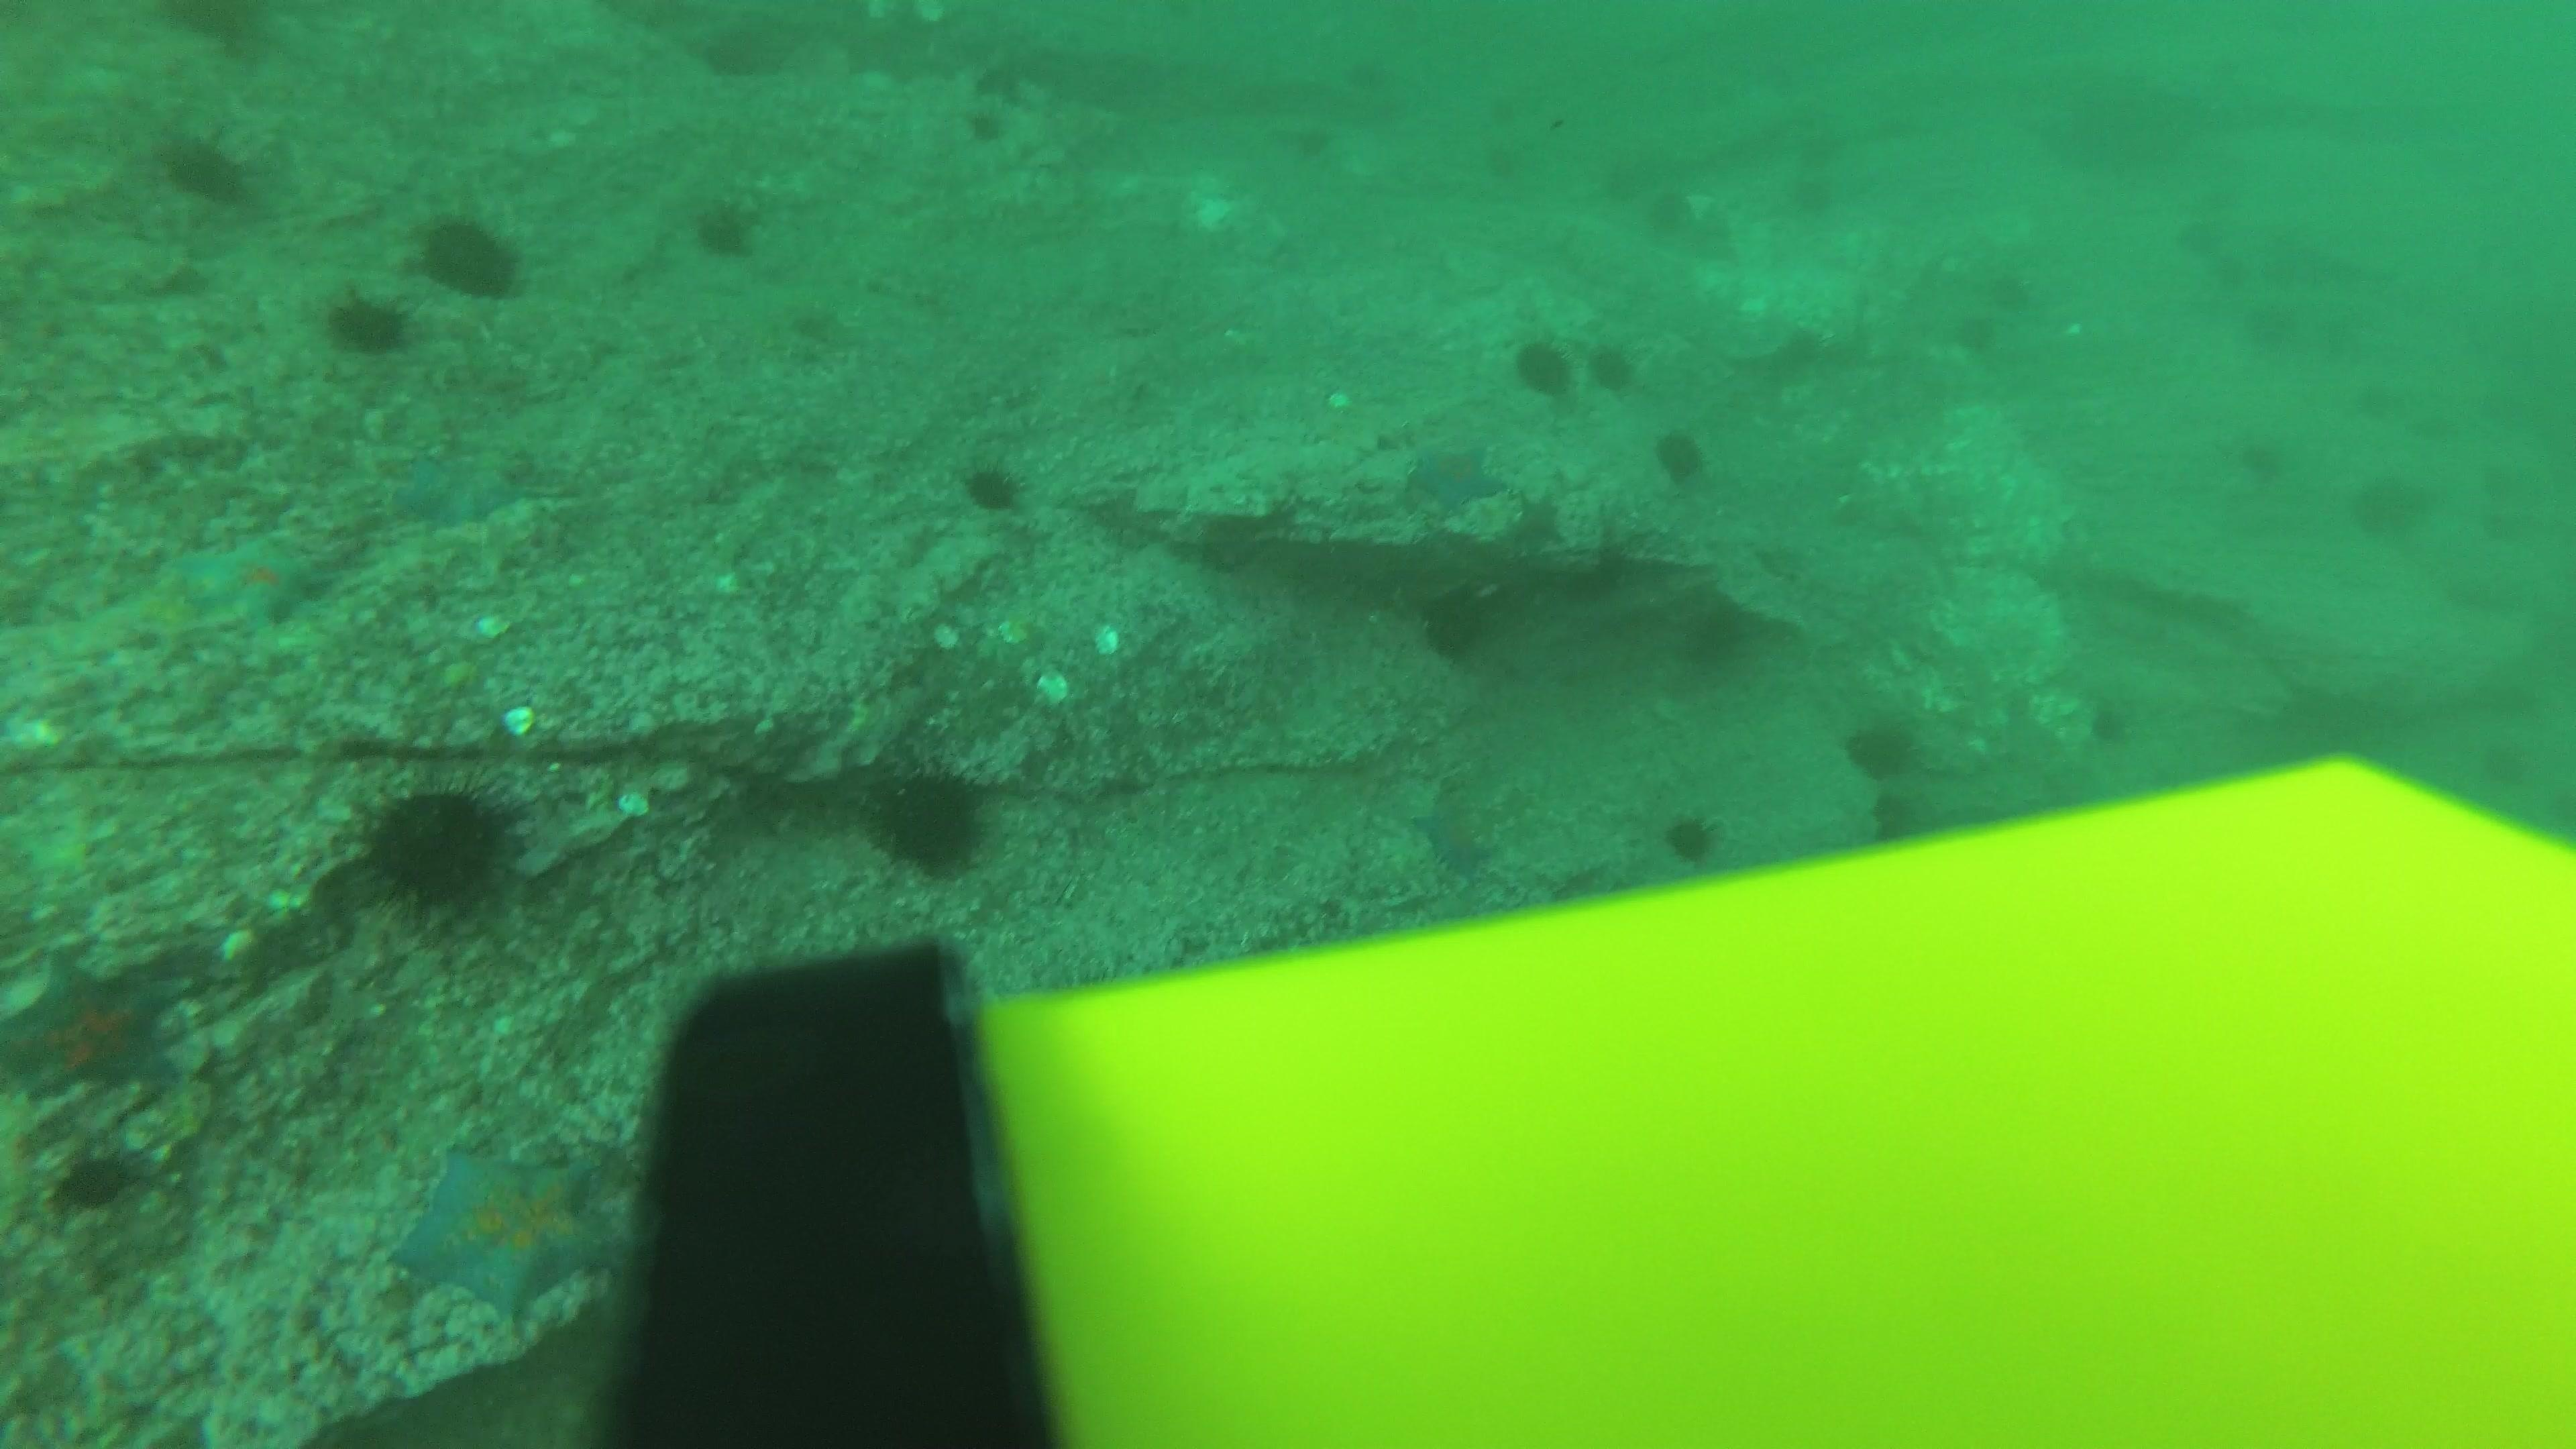echinus: (356, 775, 525, 918), (865, 759, 993, 878), (410, 205, 527, 303), (44, 1123, 159, 1217), (154, 126, 255, 209), (156, 0, 287, 64), (1414, 580, 1500, 665), (322, 283, 414, 357), (2346, 467, 2434, 543), (1672, 596, 1753, 674), (1840, 708, 1925, 782), (686, 191, 766, 262), (694, 19, 782, 81), (1509, 329, 1580, 398), (957, 453, 1028, 517), (1571, 333, 1638, 396), (1658, 805, 1725, 867), (1652, 425, 1709, 487), (957, 96, 1016, 147), (1343, 51, 1401, 103), (1674, 209, 1732, 260), (1943, 306, 2001, 357), (1983, 269, 2042, 320), (1780, 138, 1838, 189), (1477, 88, 1536, 140), (2160, 200, 2219, 251), (2196, 239, 2254, 290), (2249, 235, 2307, 287), (2346, 368, 2404, 419), (2387, 398, 2445, 449), (2470, 510, 2528, 561), (2479, 462, 2537, 513), (1290, 120, 1346, 172), (1631, 182, 1688, 234), (1468, 138, 1525, 189), (2229, 297, 2286, 349), (2231, 437, 2288, 488), (2477, 725, 2534, 777), (2081, 692, 2137, 743), (2442, 566, 2498, 617), (975, 53, 1033, 103), (1787, 180, 1845, 230)
starfish: (387, 1138, 623, 1325), (5, 947, 191, 1102), (166, 525, 334, 633), (384, 444, 533, 531), (1399, 439, 1511, 515), (1414, 789, 1502, 881), (1507, 492, 1566, 552)
